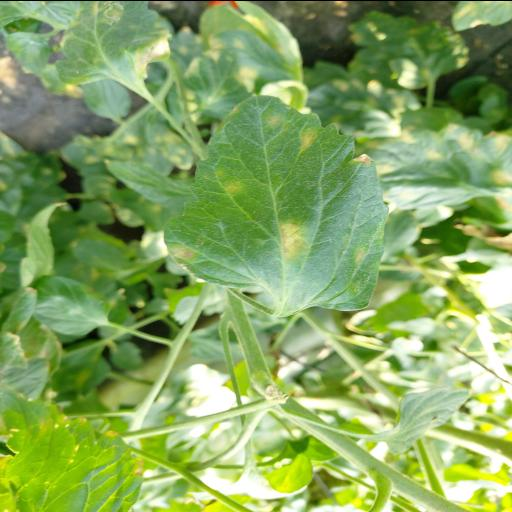Leaf Mold: (164, 94, 390, 310)
